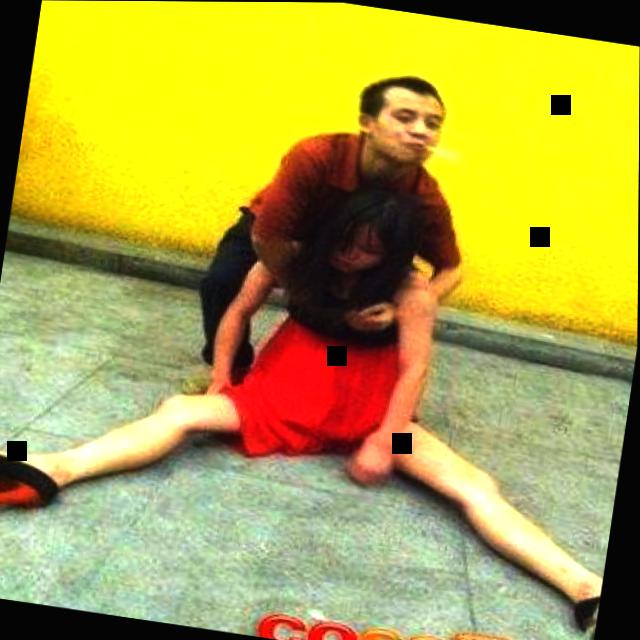Fall-Detected: (0, 119, 639, 637)
